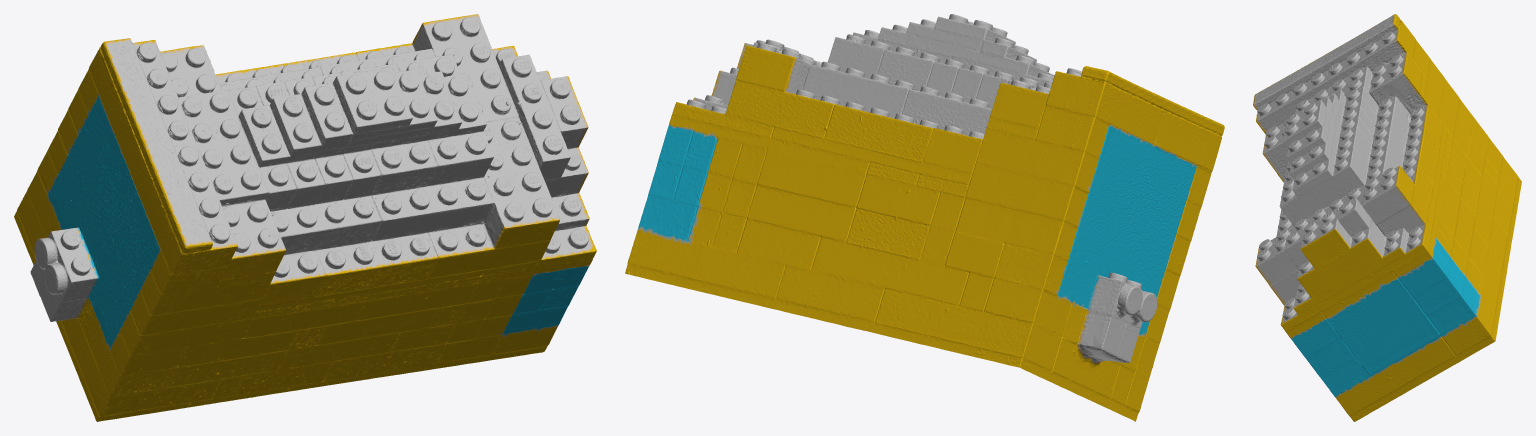
Rendered from taxonomy_15_merged.glb.
3 views of the same model, side by side, from view 1: azimuth 30°, elevation 25°; view 2: azimuth 150°, elevation 25°; view 3: azimuth 270°, elevation 25° (orthographic). The views are drawn at different scales.
Parts seen in each view (by area): view 1: world; view 2: world; view 3: world.
Part boxes in pixels (box(x1,y1,x2,y2)): world: box(14, 14, 596, 421); world: box(625, 14, 1224, 421); world: box(1253, 14, 1521, 421).
Size of the model in its own units: 142 by 110 by 99.43.
